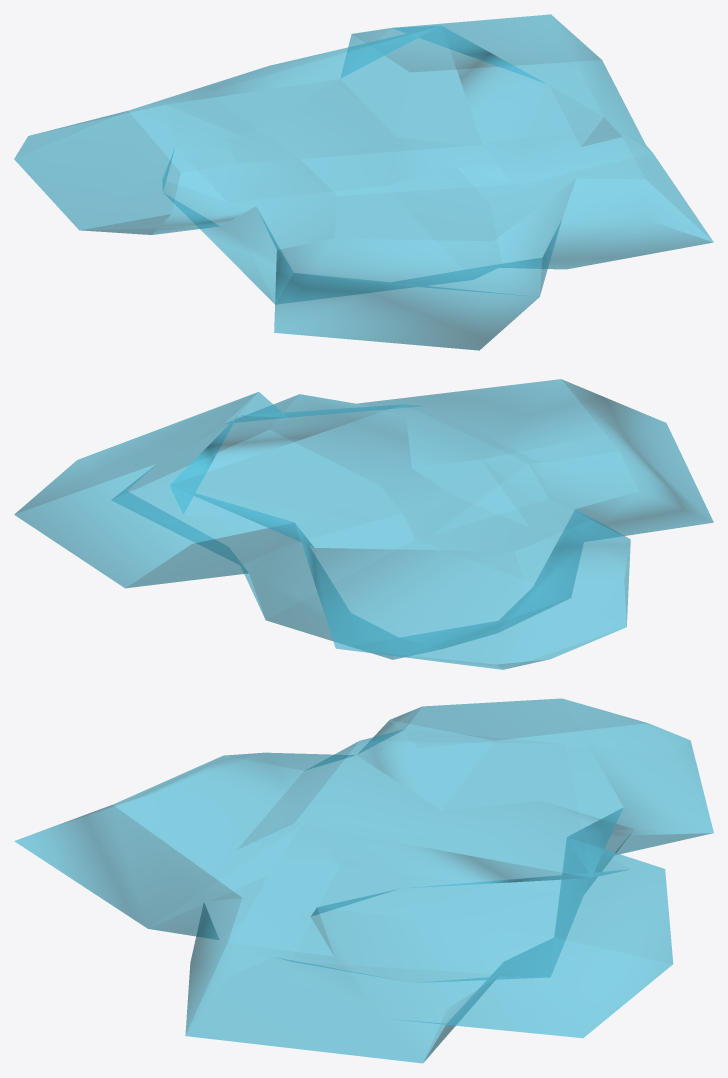
The model's file is floatingIce.glb.
3 views of the same model, one above another, from view 1: azimuth 30°, elevation 25°; view 2: azimuth 150°, elevation 25°; view 3: azimuth 270°, elevation 25° (orthographic). The views are drawn at different scales.
Parts seen in each view (by area): view 1: Cube.001; view 2: Cube.001; view 3: Cube.001.
Part boxes in pixels (bbox=[...]): Cube.001: bbox=[14, 14, 713, 350]; Cube.001: bbox=[14, 379, 713, 669]; Cube.001: bbox=[14, 698, 713, 1063].
Size of the model in its own units: 70.78 by 15.93 by 69.61.
